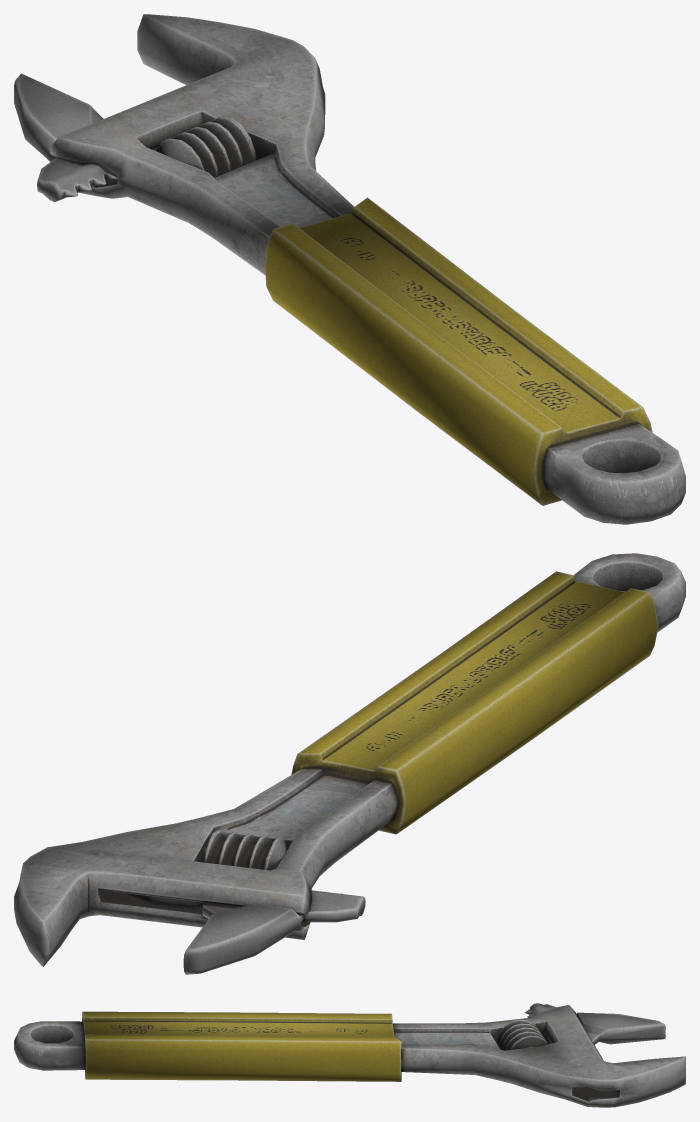
File: spanner.glb
The picture shows the model from 3 angles, top to bottom: view 1: azimuth 30°, elevation 25°; view 2: azimuth 150°, elevation 25°; view 3: azimuth 270°, elevation 25°; orthographic projection. The views are drawn at different scales.
Visible parts, largest first — view 1: SpannerYellow_0; view 2: SpannerYellow_0; view 3: SpannerYellow_0.
Part boxes in pixels (x1,y1,x2,y2): SpannerYellow_0: (14,14,685,524); SpannerYellow_0: (14,553,685,974); SpannerYellow_0: (14,1003,685,1107).
Size of the model in its own units: 21.3 by 4.61 by 69.27.
1 material, 1 textured.
